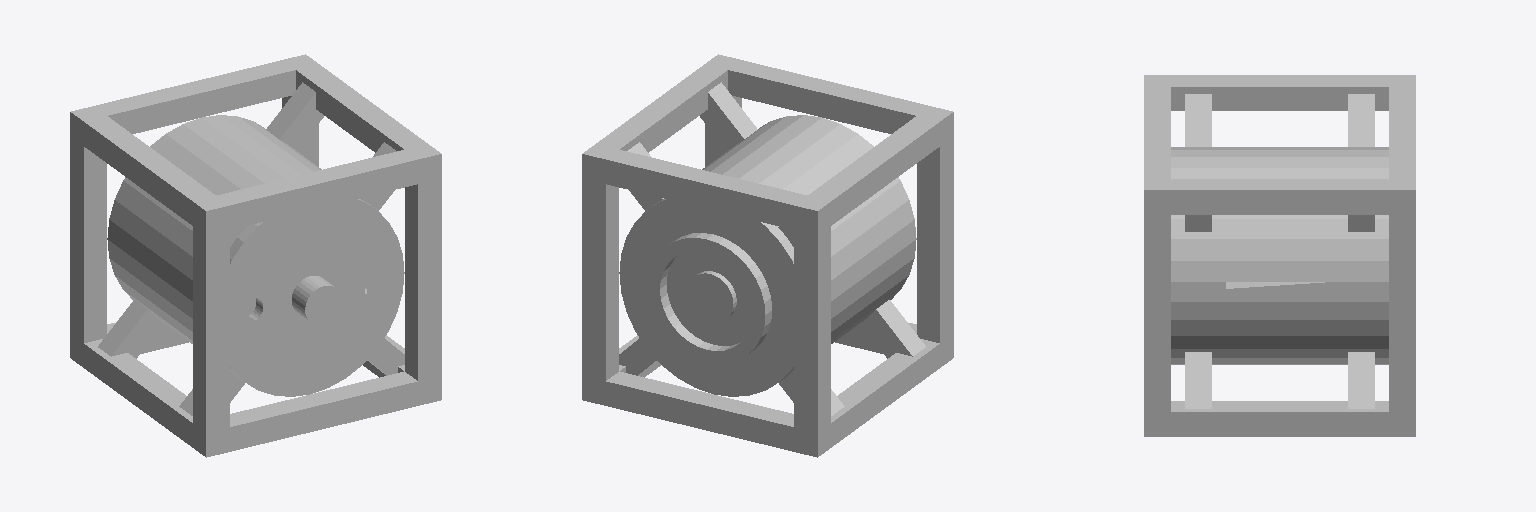
File: Motor.obj
3 renders of one model, left to right at view 1: azimuth 30°, elevation 25°; view 2: azimuth 150°, elevation 25°; view 3: azimuth 270°, elevation 25°, orthographic.
Visible parts, largest first — view 1: FrameCube; view 2: FrameCube; view 3: FrameCube.
Boxes of the visible parts, x1,y1,x2,y2 form: FrameCube: [70, 54, 441, 457]; FrameCube: [582, 54, 953, 457]; FrameCube: [1144, 75, 1415, 436].
Bounding box in the file's own units: 1 × 1 × 1.